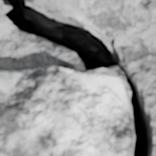brick: (0, 66, 132, 155)
broken_brick: (28, 0, 155, 23), (0, 0, 9, 18)
crack: (2, 0, 153, 155)
